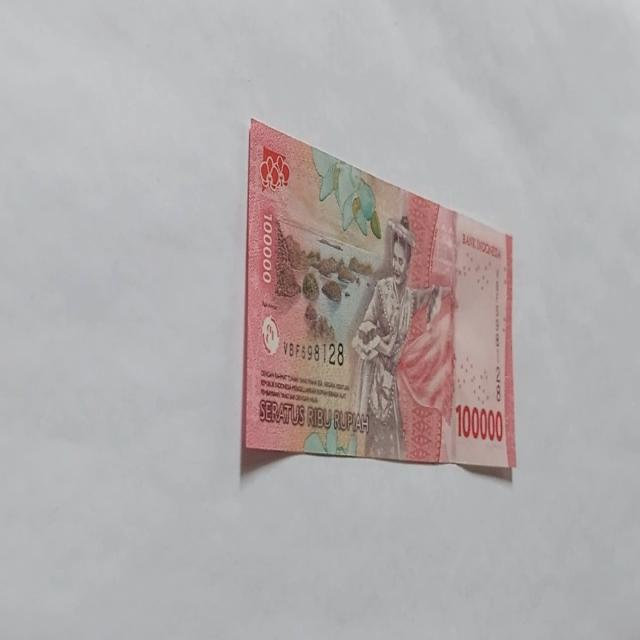seratus ribu rupiah: (242, 116, 516, 474), (349, 215, 442, 460)
